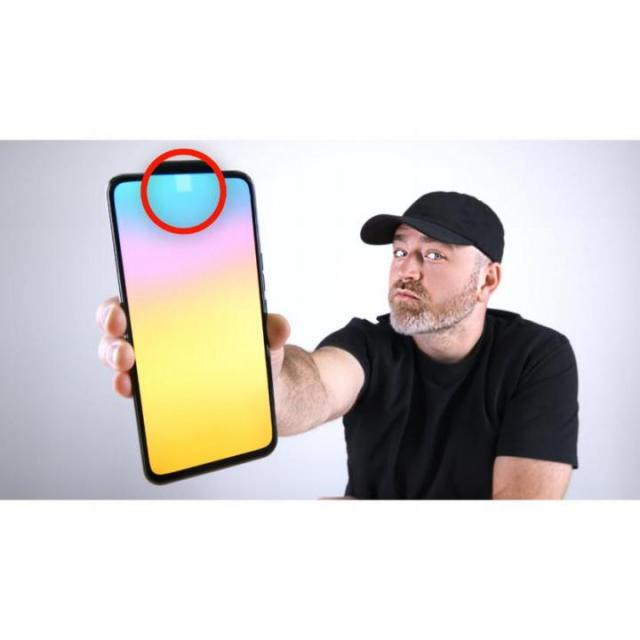device: (105, 166, 279, 488)
live: (393, 235, 464, 332)
